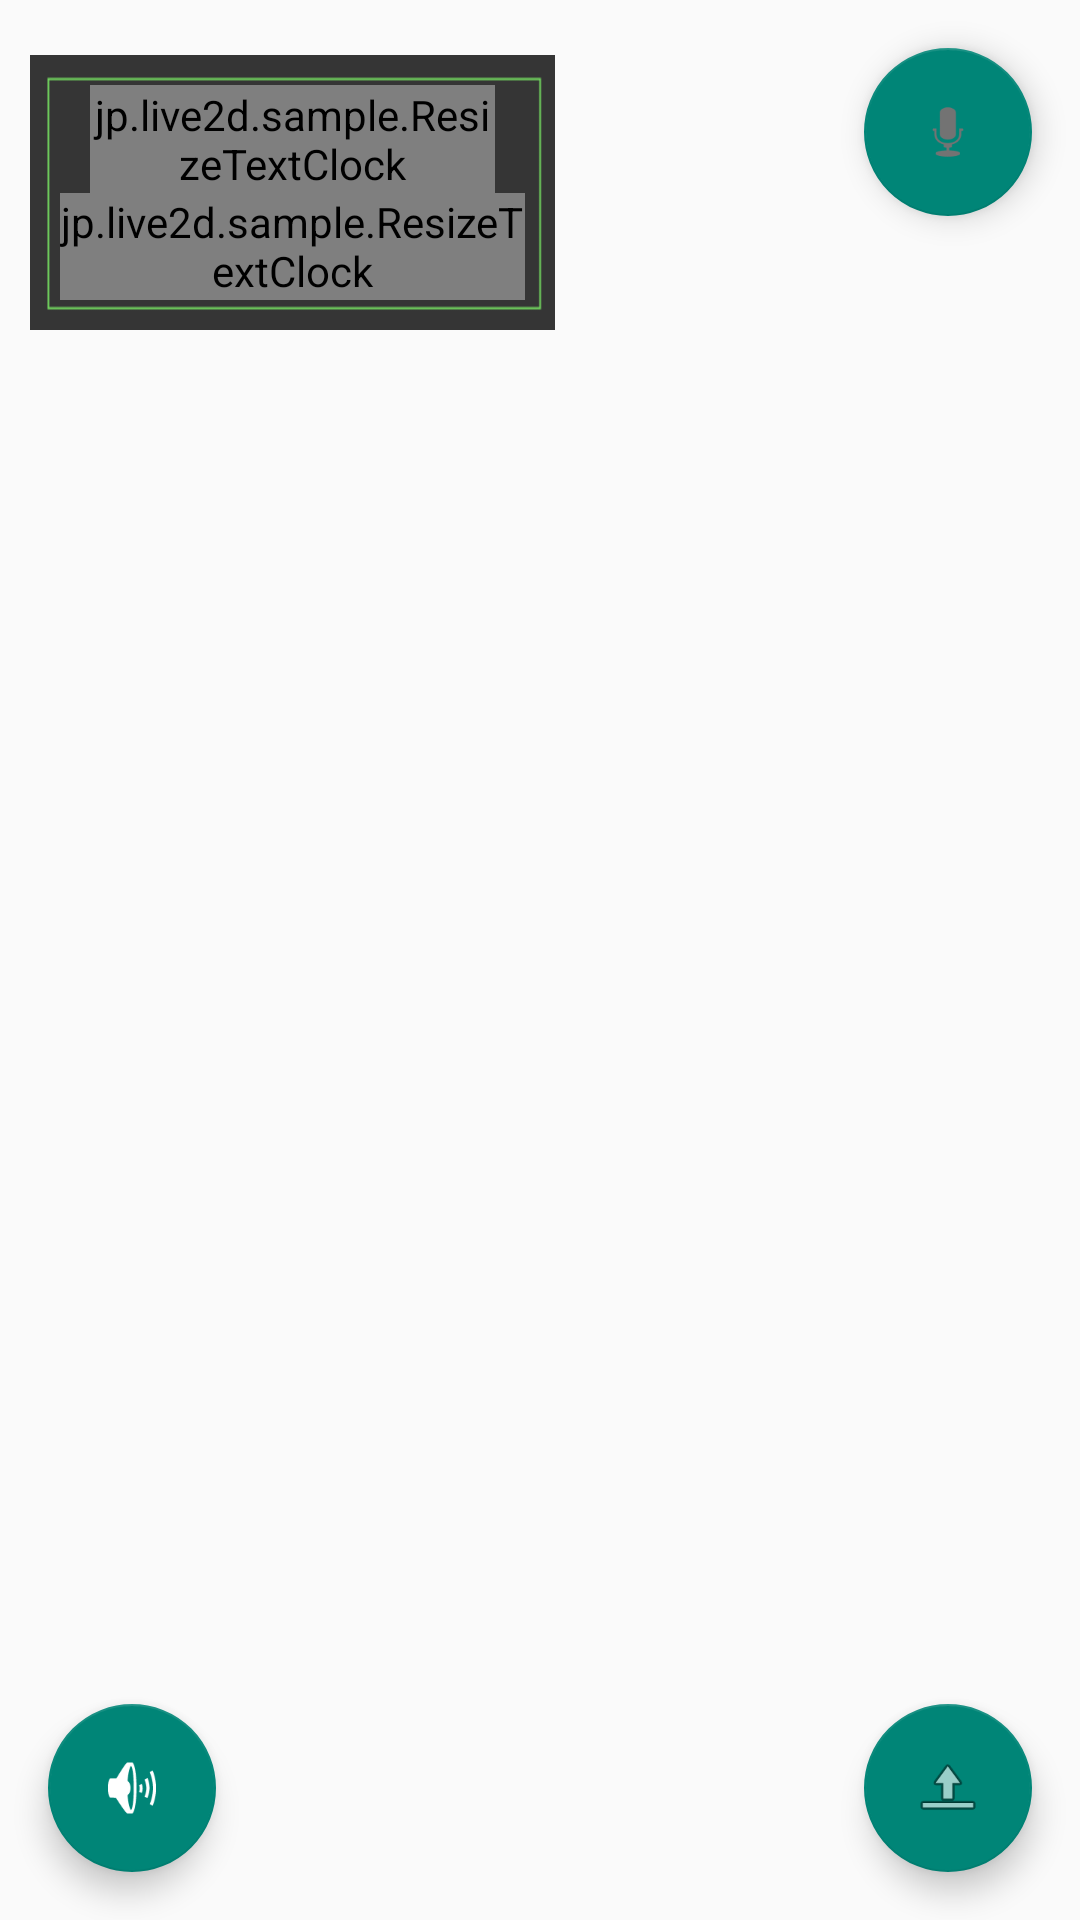

Named icons in this screenshot (1080×1920) and their centers, (x=x, y=y):
speak now: (x=948, y=132)
upload: (x=948, y=1788)
